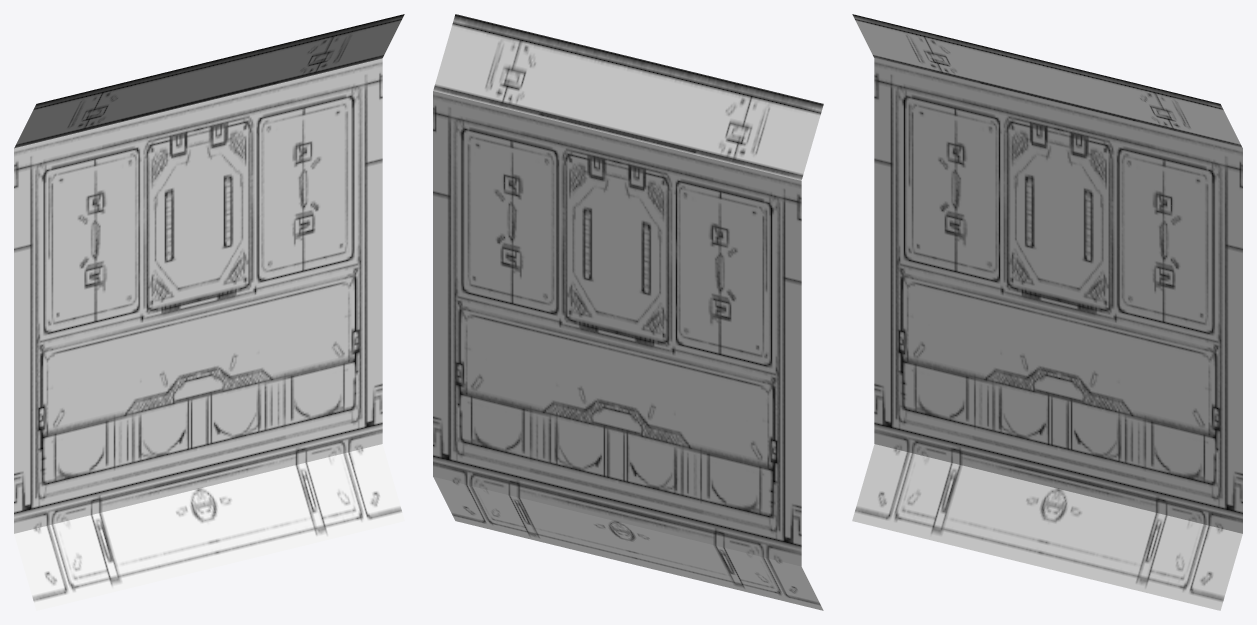
Rendered from WFpCube5.fbx.
The picture shows the model from 3 angles, left to right: view 1: azimuth 30°, elevation 25°; view 2: azimuth 150°, elevation 25°; view 3: azimuth 330°, elevation 25°; orthographic projection.
Parts seen in each view (by area): view 1: pCube5; view 2: pCube5; view 3: pCube5.
Boxes of the visible parts, box(x1,y1,x2,y2) form: pCube5: box(14, 14, 404, 610); pCube5: box(433, 14, 823, 610); pCube5: box(852, 14, 1242, 610).
Bounding box in the file's own units: 100 × 132 × 10.49.
1 material, 1 textured.
